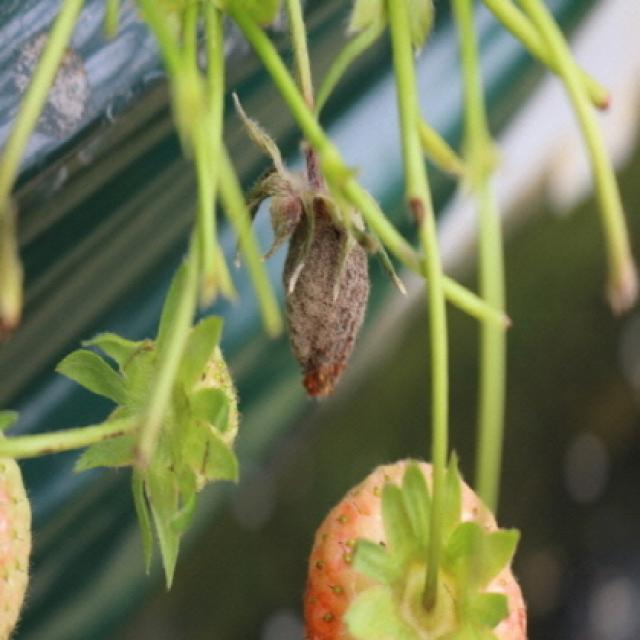Gray Mold: (248, 132, 371, 403)
